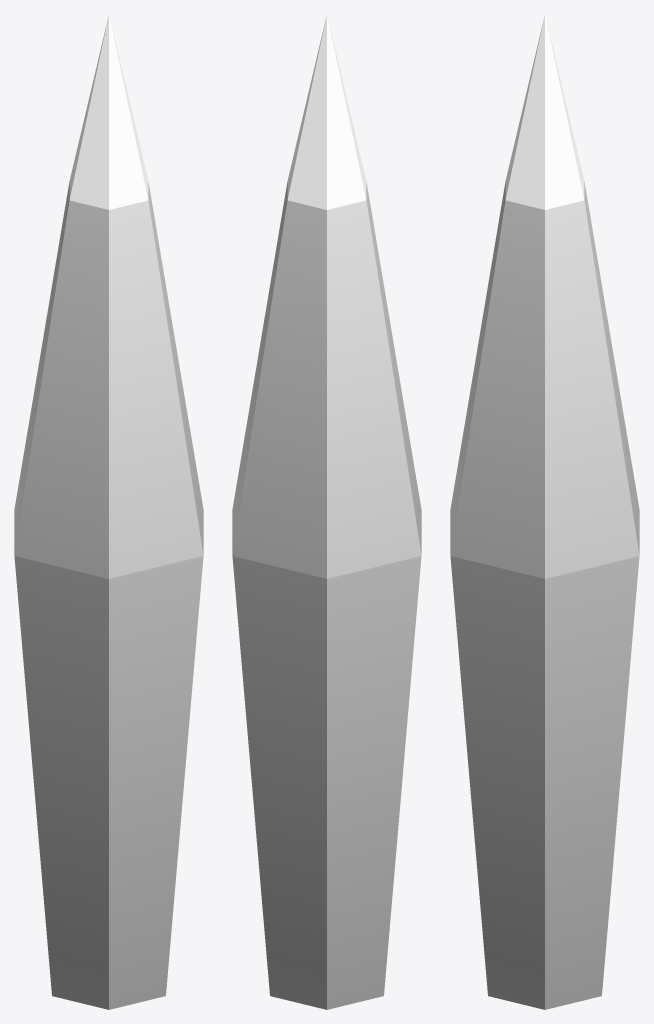
File: Grass02.fbx
3 views of the same model, side by side, from view 1: azimuth 30°, elevation 25°; view 2: azimuth 150°, elevation 25°; view 3: azimuth 270°, elevation 25° (orthographic).
Visible parts, largest first — view 1: Tree05; view 2: Tree05; view 3: Tree05.
Part boxes in pixels (x1=…): Tree05: x1=14, y1=15, x2=203, y2=1009; Tree05: x1=232, y1=15, x2=421, y2=1009; Tree05: x1=450, y1=15, x2=639, y2=1009.
Bounding box in the file's own units: 27.02 × 132 × 23.4.
